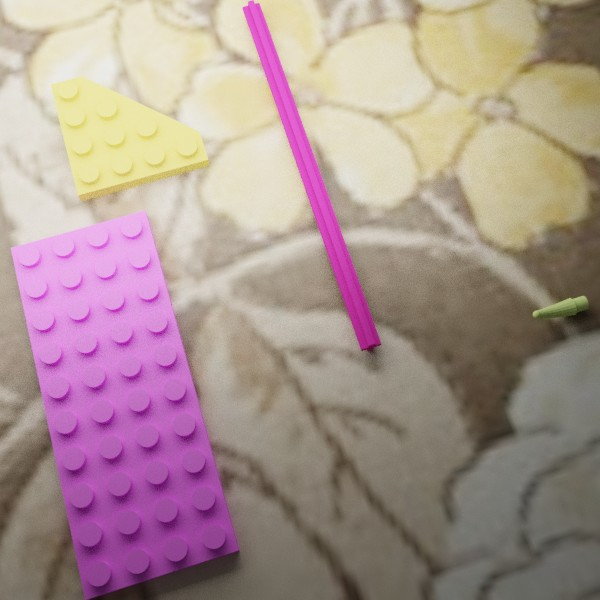lego: (10, 210, 239, 600), (242, 0, 381, 351), (50, 76, 209, 201), (532, 295, 588, 318)
